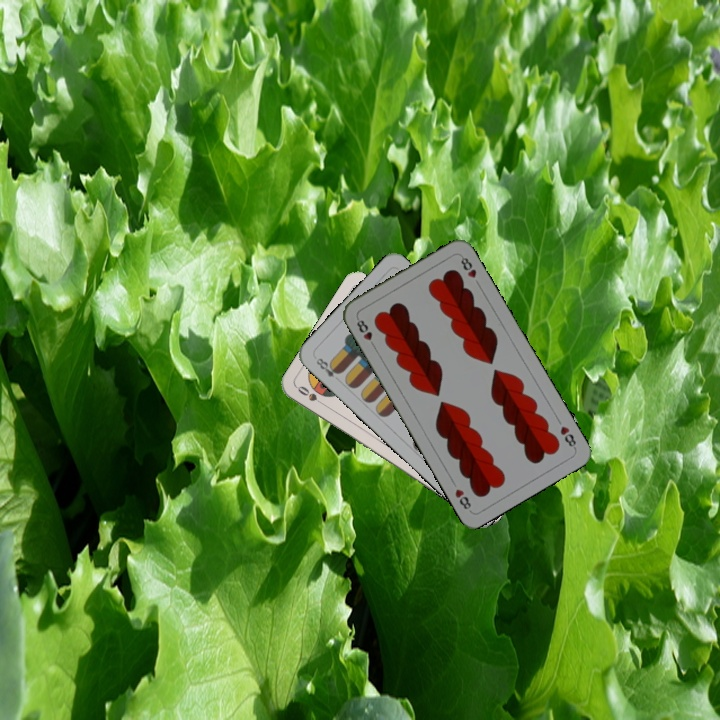E8: (312, 354, 344, 380)
H8: (352, 314, 378, 351), (556, 422, 579, 452)
SO: (293, 382, 329, 410)
